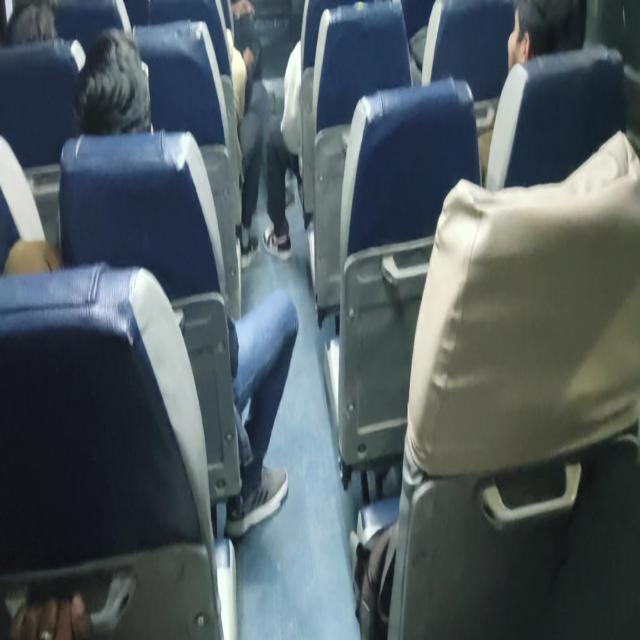person: (5, 26, 299, 539), (3, 26, 154, 274), (483, 0, 587, 188), (224, 286, 298, 539), (226, 4, 268, 270), (72, 26, 153, 136), (506, 0, 587, 72), (6, 0, 59, 44)
